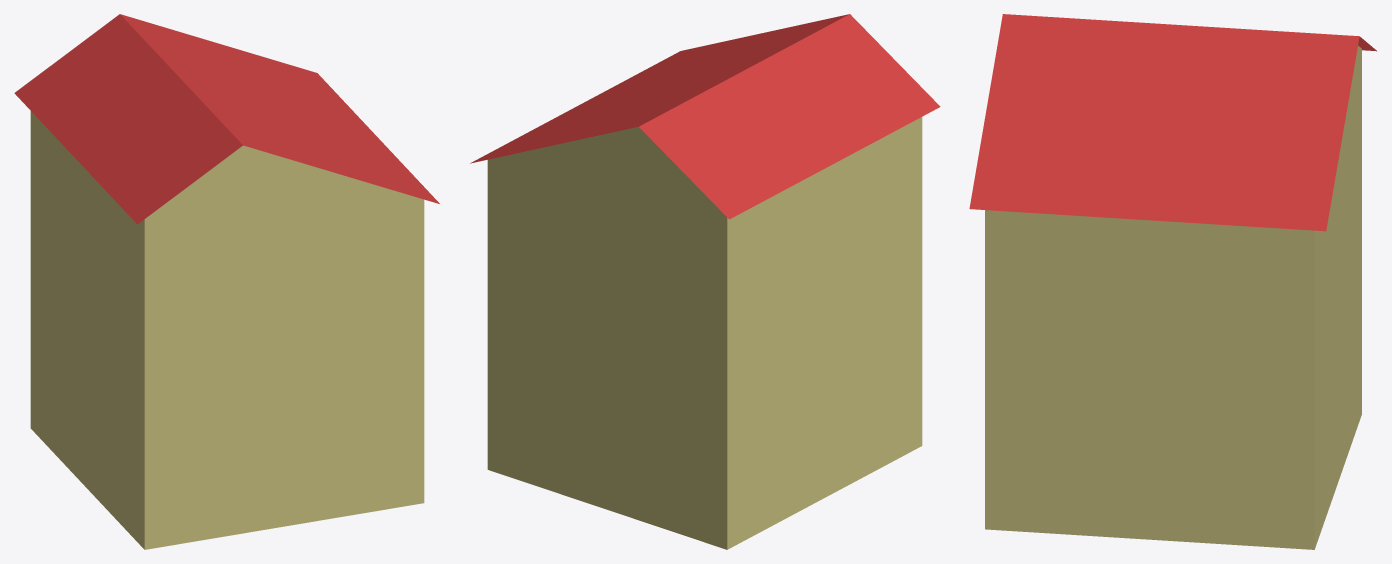
The picture shows the model from 3 angles, left to right: view 1: azimuth 30°, elevation 25°; view 2: azimuth 150°, elevation 25°; view 3: azimuth 270°, elevation 25°; orthographic projection. The views are drawn at different scales.
Size of the model in its own units: 7.27 by 7.41 by 8.51.
